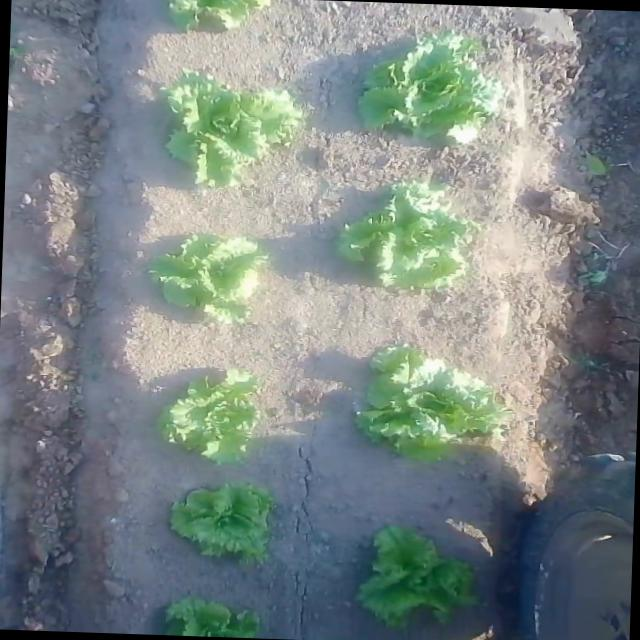Lettuce-Ready-to-Harvest: (368, 22, 514, 152), (146, 80, 305, 186), (348, 529, 503, 630), (355, 194, 489, 301), (147, 231, 273, 323), (158, 482, 288, 556)
